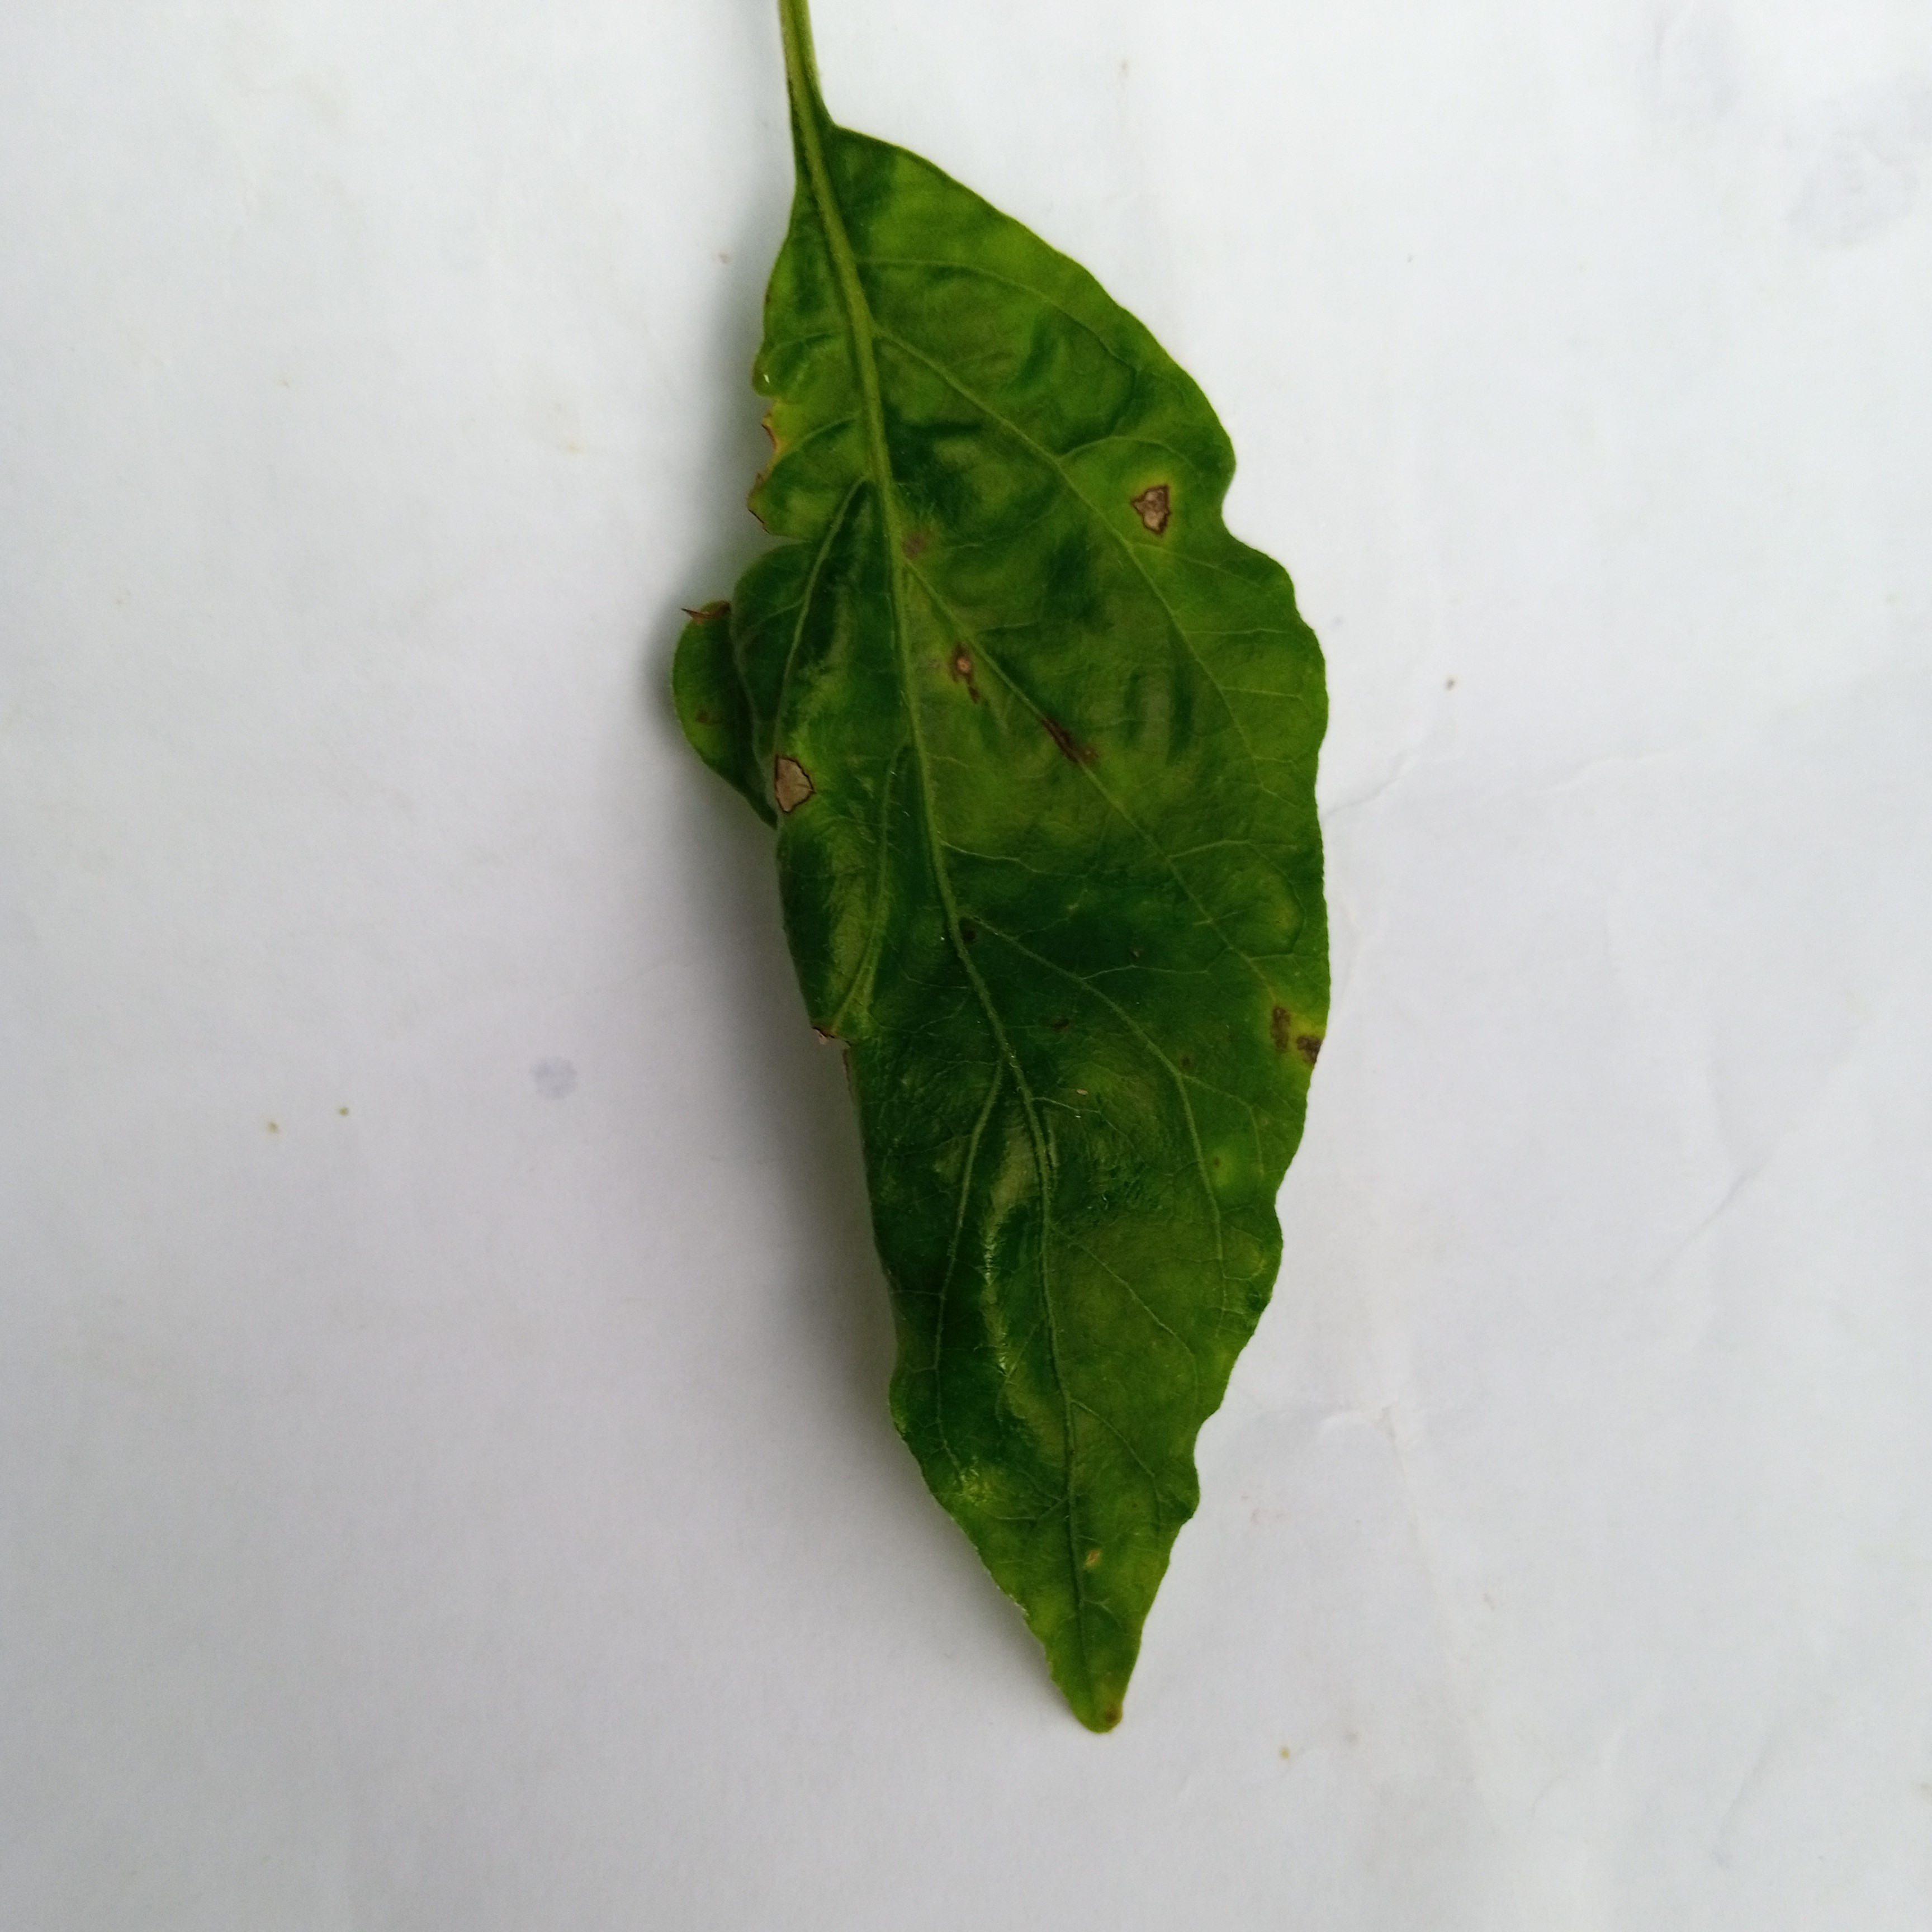Leaf: (531, 106, 1481, 1792)
